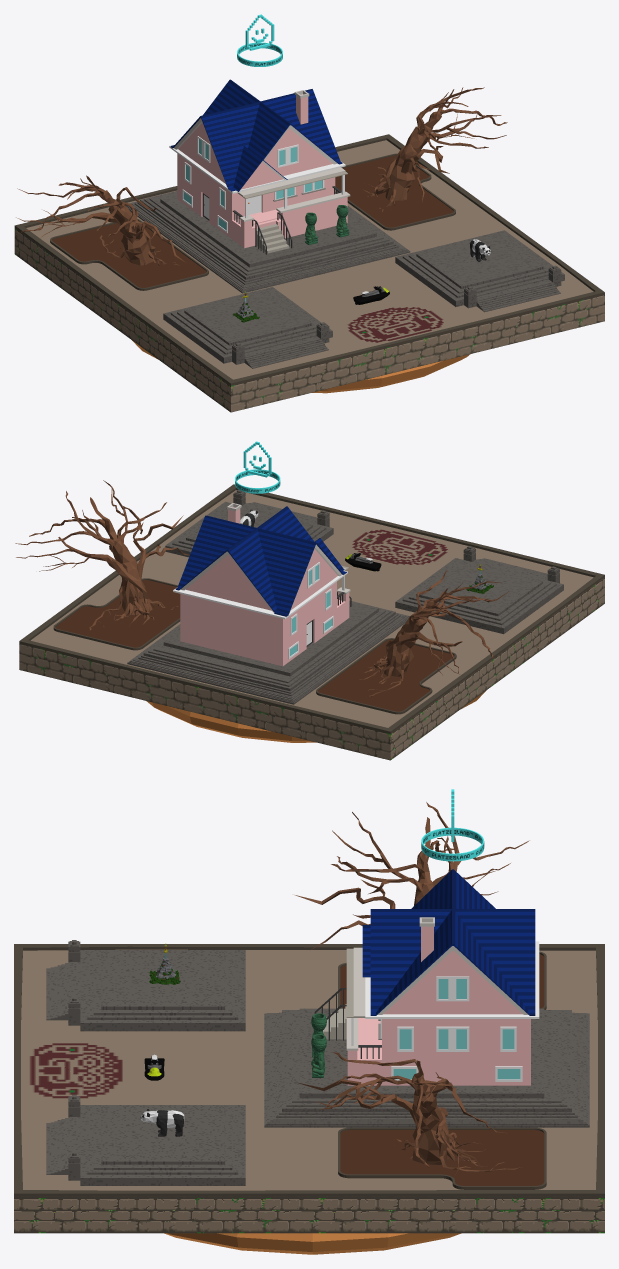
3 views of the same model, one above another, from view 1: azimuth 30°, elevation 25°; view 2: azimuth 150°, elevation 25°; view 3: azimuth 270°, elevation 25° (orthographic). The views are drawn at different scales.
Visible parts, largest first — view 1: Cube.011, Cube.313, UNDERGROUND_PIZZA, TYPE_PREMIUM; view 2: Cube.011, Cube.313, UNDERGROUND_PIZZA, TYPE_PREMIUM; view 3: Cube.011, Cube.313, UNDERGROUND_PIZZA, TYPE_PREMIUM, ANIMAL_PANDA.
Part boxes in pixels (box(x1,y1,x2,y2)): Cube.011: box(14, 87, 604, 412); Cube.313: box(169, 79, 350, 254); UNDERGROUND_PIZZA: box(132, 340, 470, 393); TYPE_PREMIUM: box(237, 14, 282, 66); Cube.011: box(15, 480, 604, 760); Cube.313: box(173, 503, 351, 666); UNDERGROUND_PIZZA: box(146, 690, 486, 742); TYPE_PREMIUM: box(235, 441, 280, 493); Cube.011: box(14, 802, 604, 1233); Cube.313: box(314, 869, 539, 1085); UNDERGROUND_PIZZA: box(164, 1233, 461, 1254); TYPE_PREMIUM: box(421, 789, 484, 861); ANIMAL_PANDA: box(140, 1109, 184, 1136).
Bounding box in the file's own units: 5099 × 2678 × 4000.
Materials: 39 (6 with a texture image).
